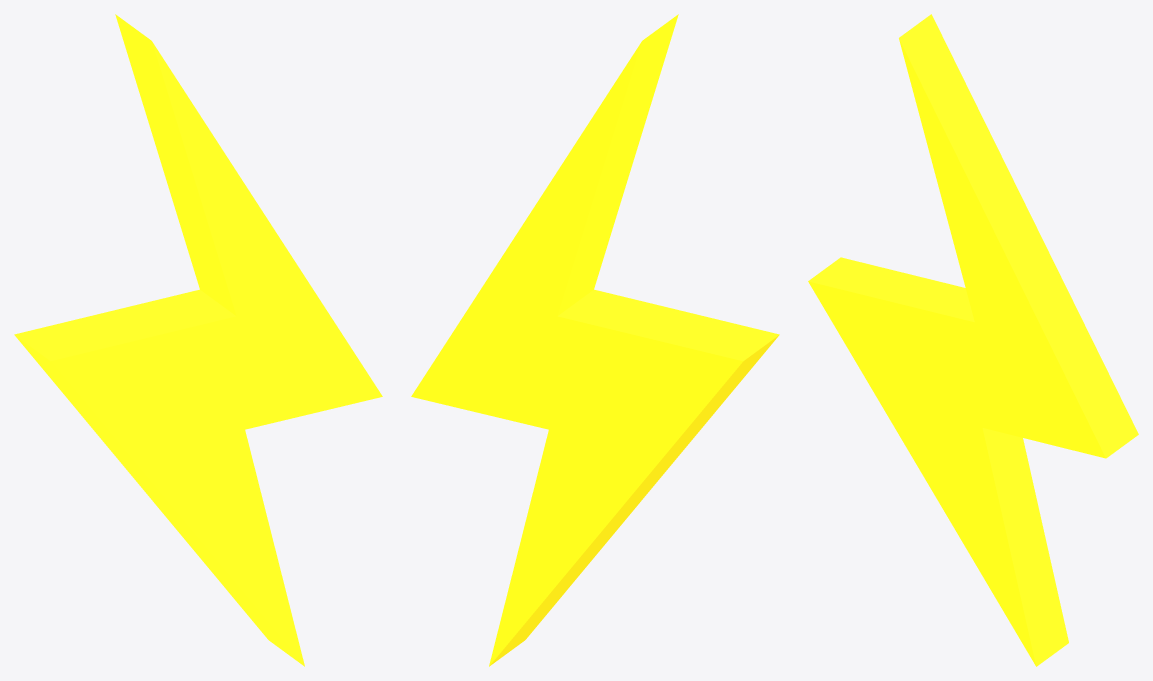
The model's file is EnergyIcon.fbx.
3 views of the same model, side by side, from view 1: azimuth 30°, elevation 25°; view 2: azimuth 150°, elevation 25°; view 3: azimuth 330°, elevation 25° (orthographic). The views are drawn at different scales.
Parts seen in each view (by area): view 1: Extrude_1; view 2: Extrude_1; view 3: Extrude_1.
Boxes of the visible parts, bbox=[...] form: Extrude_1: bbox=[14, 14, 382, 666]; Extrude_1: bbox=[411, 14, 779, 666]; Extrude_1: bbox=[808, 14, 1138, 666].
Size of the model in its own units: 257 by 491 by 49.
